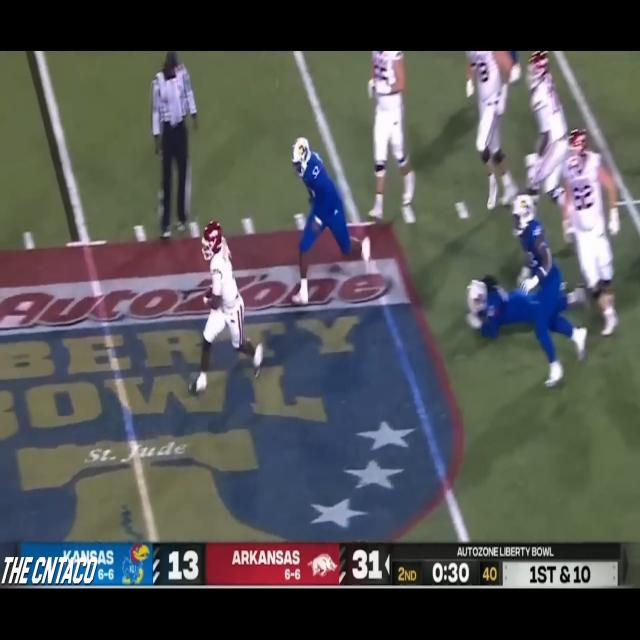players: (502, 181, 584, 385), (467, 251, 588, 381), (553, 128, 624, 346), (286, 134, 365, 296), (197, 218, 256, 406), (360, 54, 421, 225), (466, 56, 516, 212), (521, 51, 571, 200)
